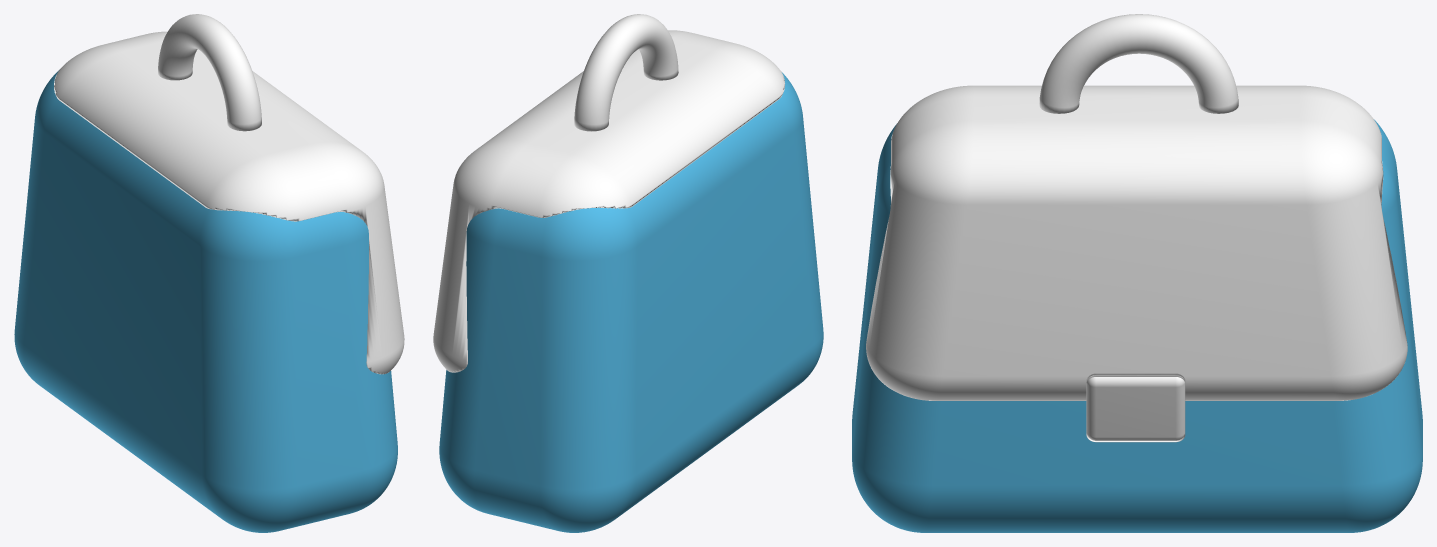
Rendered from chacosse.glb.
3 views of the same model, side by side, from view 1: azimuth 30°, elevation 25°; view 2: azimuth 150°, elevation 25°; view 3: azimuth 270°, elevation 25° (orthographic). The views are drawn at different scales.
Parts seen in each view (by area): view 1: Cube.011, Cube.013, Torus.007; view 2: Cube.011, Cube.013, Torus.007; view 3: Cube.013, Cube.011, Torus.007, Cube.014.
Boxes of the visible parts, x1=… form: Cube.011: x1=14, y1=70, x2=397, y2=532; Cube.013: x1=54, y1=31, x2=404, y2=374; Torus.007: x1=158, y1=14, x2=261, y2=131; Cube.011: x1=439, y1=72, x2=823, y2=532; Cube.013: x1=433, y1=30, x2=785, y2=372; Torus.007: x1=574, y1=14, x2=678, y2=131; Cube.013: x1=866, y1=85, x2=1407, y2=400; Cube.011: x1=852, y1=119, x2=1422, y2=532; Torus.007: x1=1039, y1=14, x2=1238, y2=113; Cube.014: x1=1086, y1=373, x2=1185, y2=442.
Size of the model in its own units: 0.9314 by 1.85 by 1.95.
